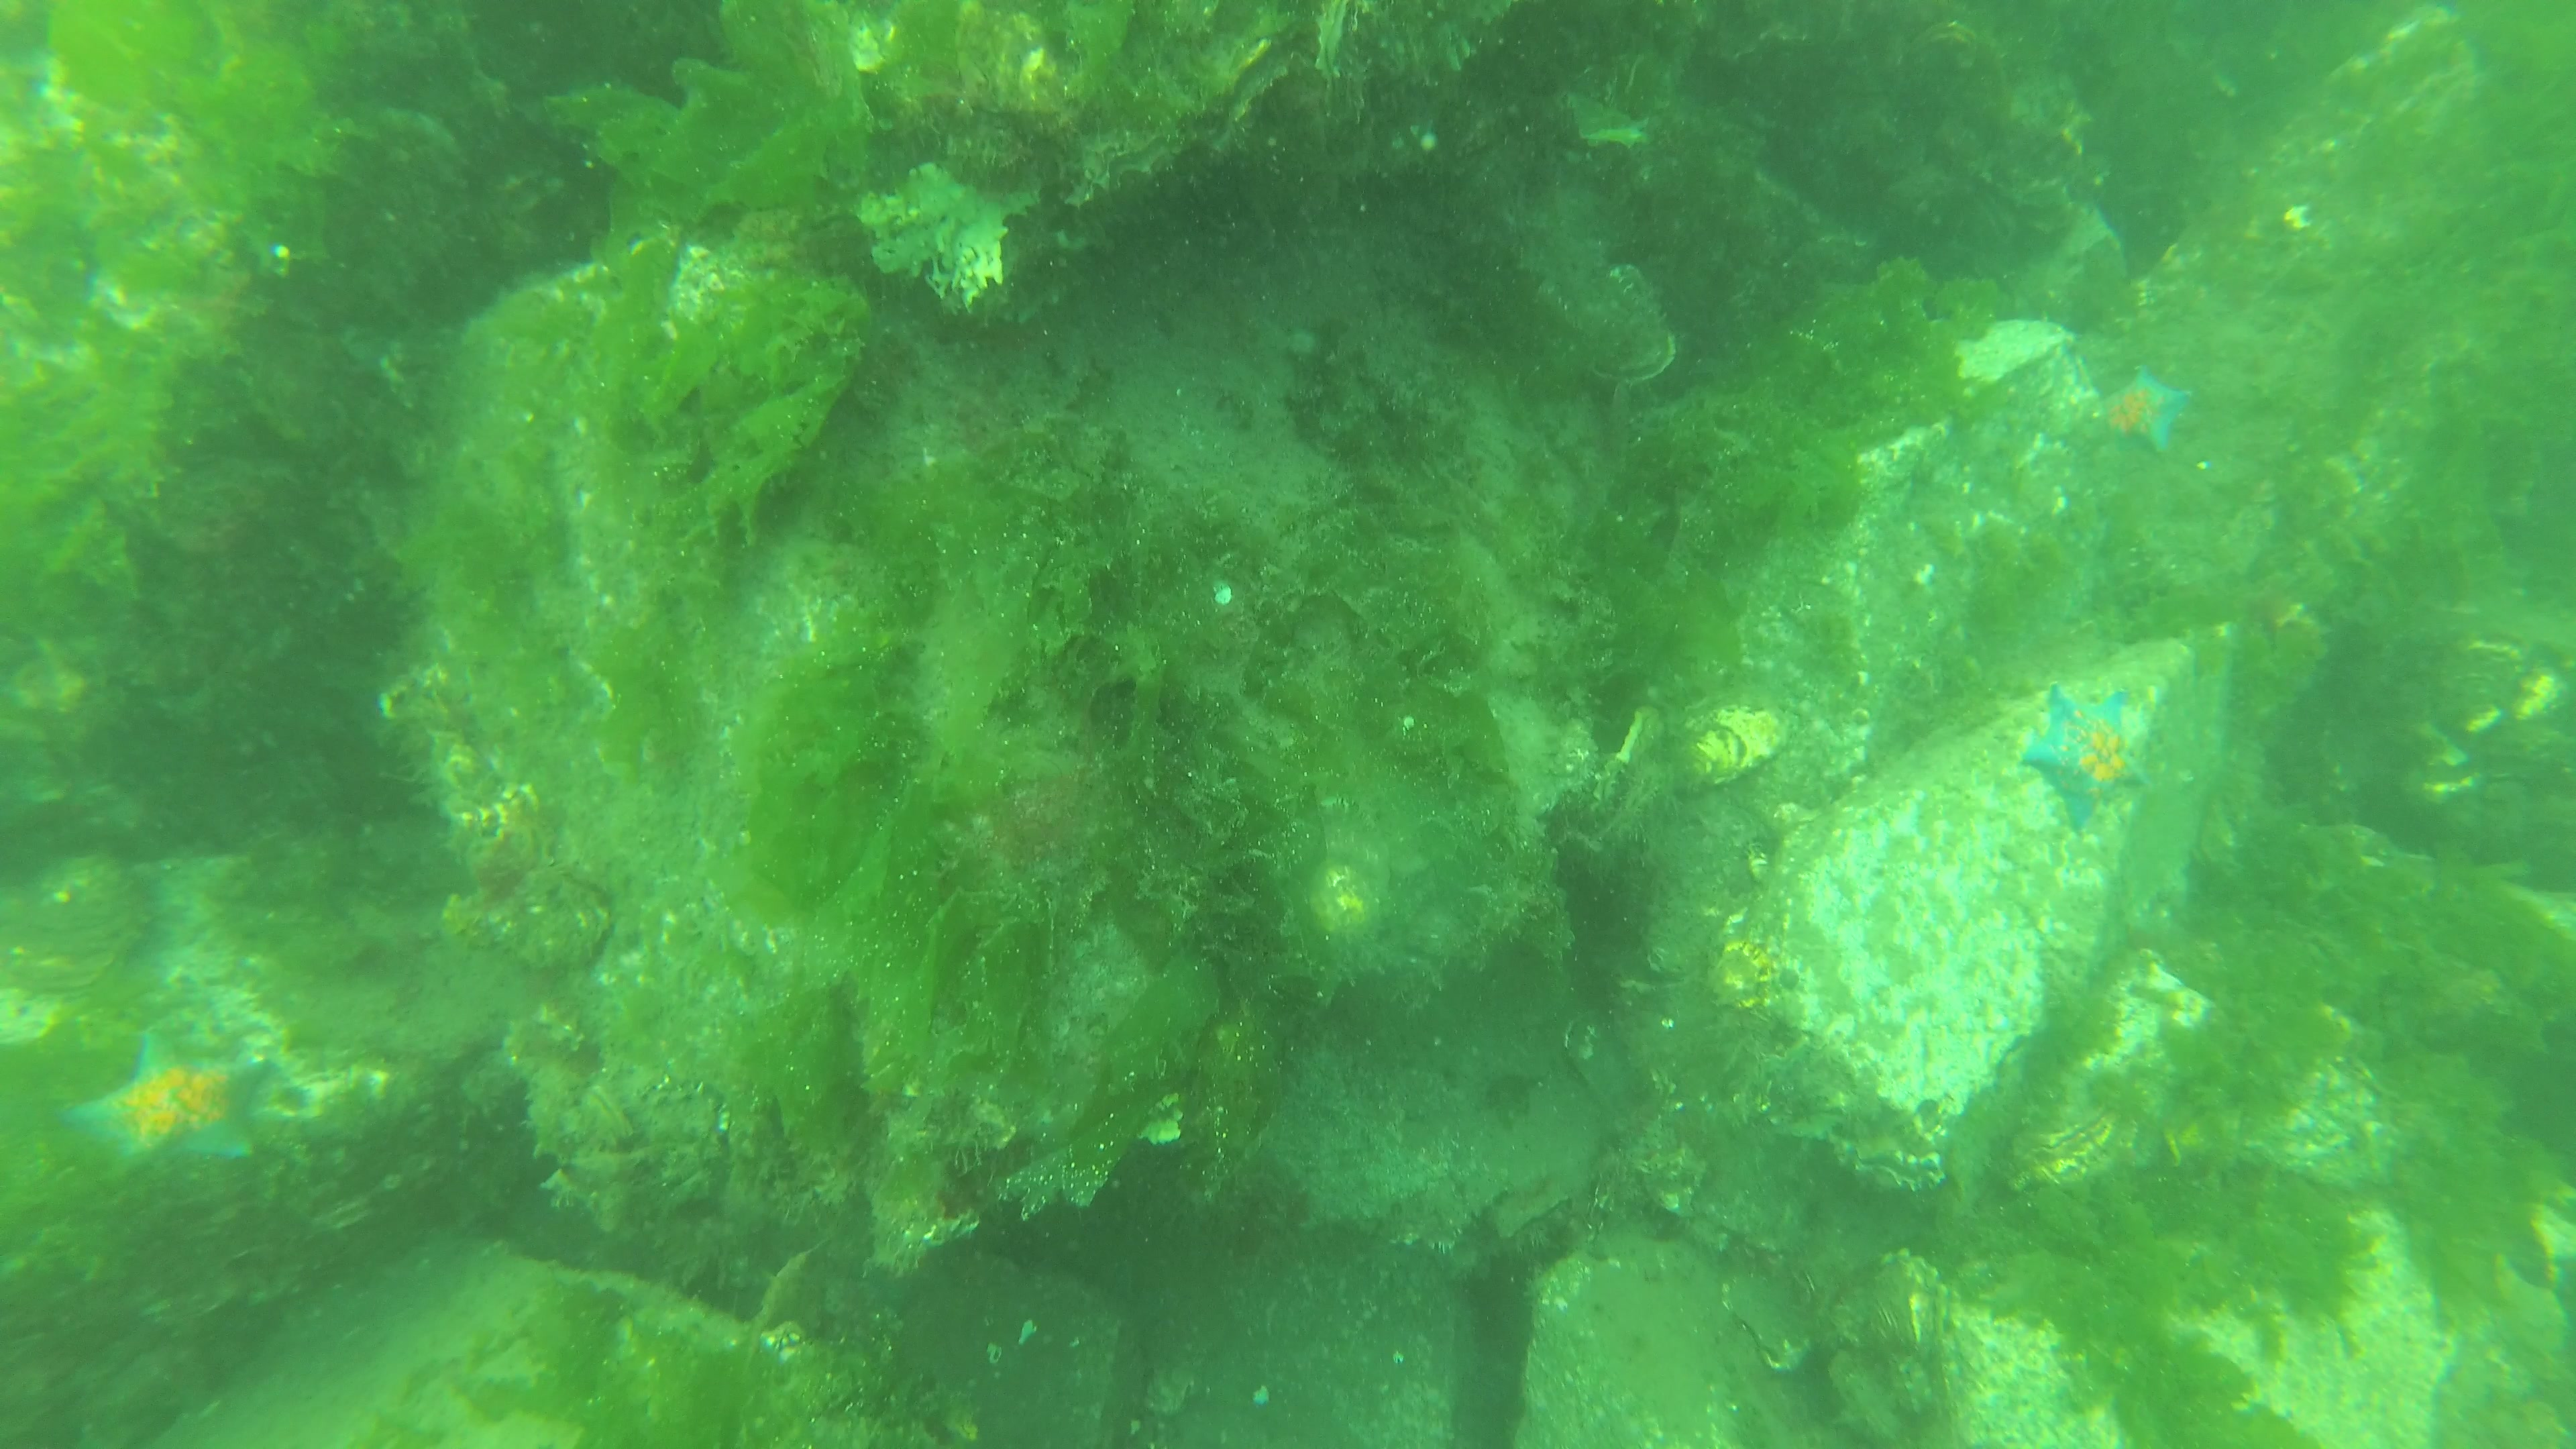starfish: (60, 1026, 276, 1178), (2015, 681, 2148, 837), (2098, 361, 2196, 460)
